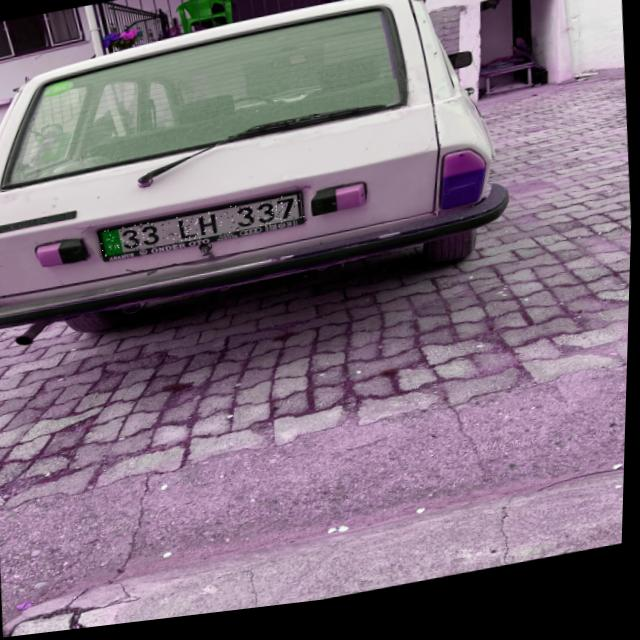license_plate: (99, 199, 307, 260)
